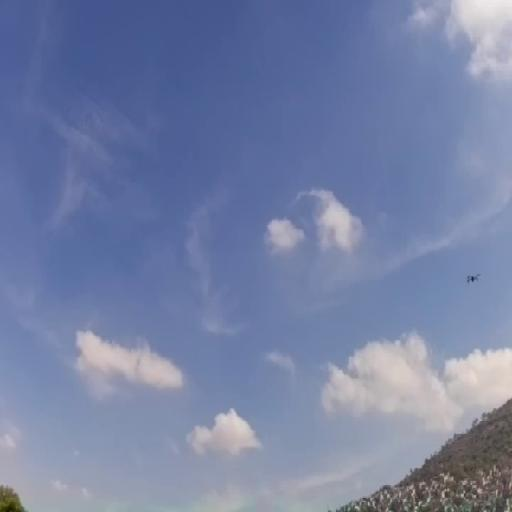drones: (464, 270, 485, 294)
